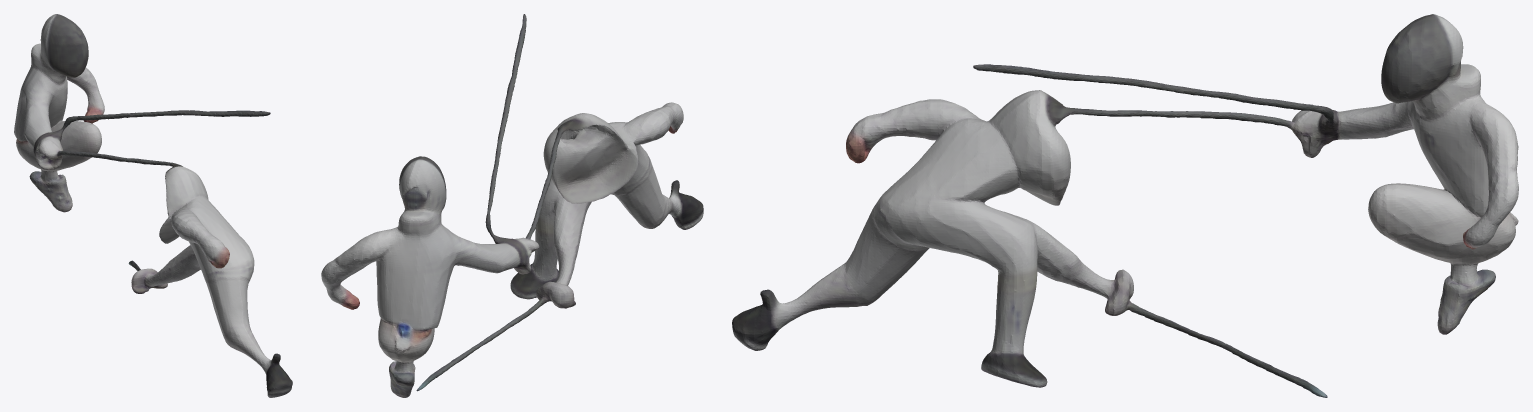
3 renders of one model, left to right at view 1: azimuth 30°, elevation 25°; view 2: azimuth 150°, elevation 25°; view 3: azimuth 270°, elevation 25°, orthographic. The views are drawn at different scales.
Visible parts, largest first — view 1: geometry_0; view 2: geometry_0; view 3: geometry_0.
Boxes of the visible parts, box(x1,y1,x2,y2) form: geometry_0: box(14, 14, 292, 397); geometry_0: box(321, 14, 703, 397); geometry_0: box(732, 14, 1518, 397).
Size of the model in its own units: 0.2701 by 0.4949 by 0.9962.
